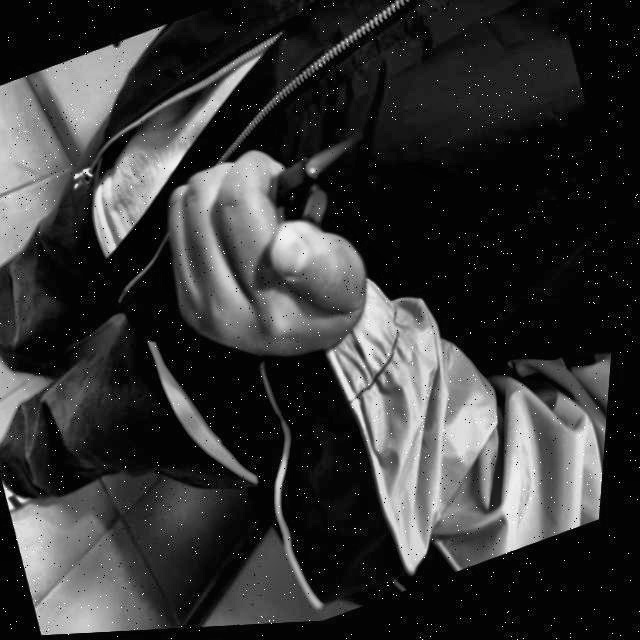Fire: (300, 137, 367, 181)
